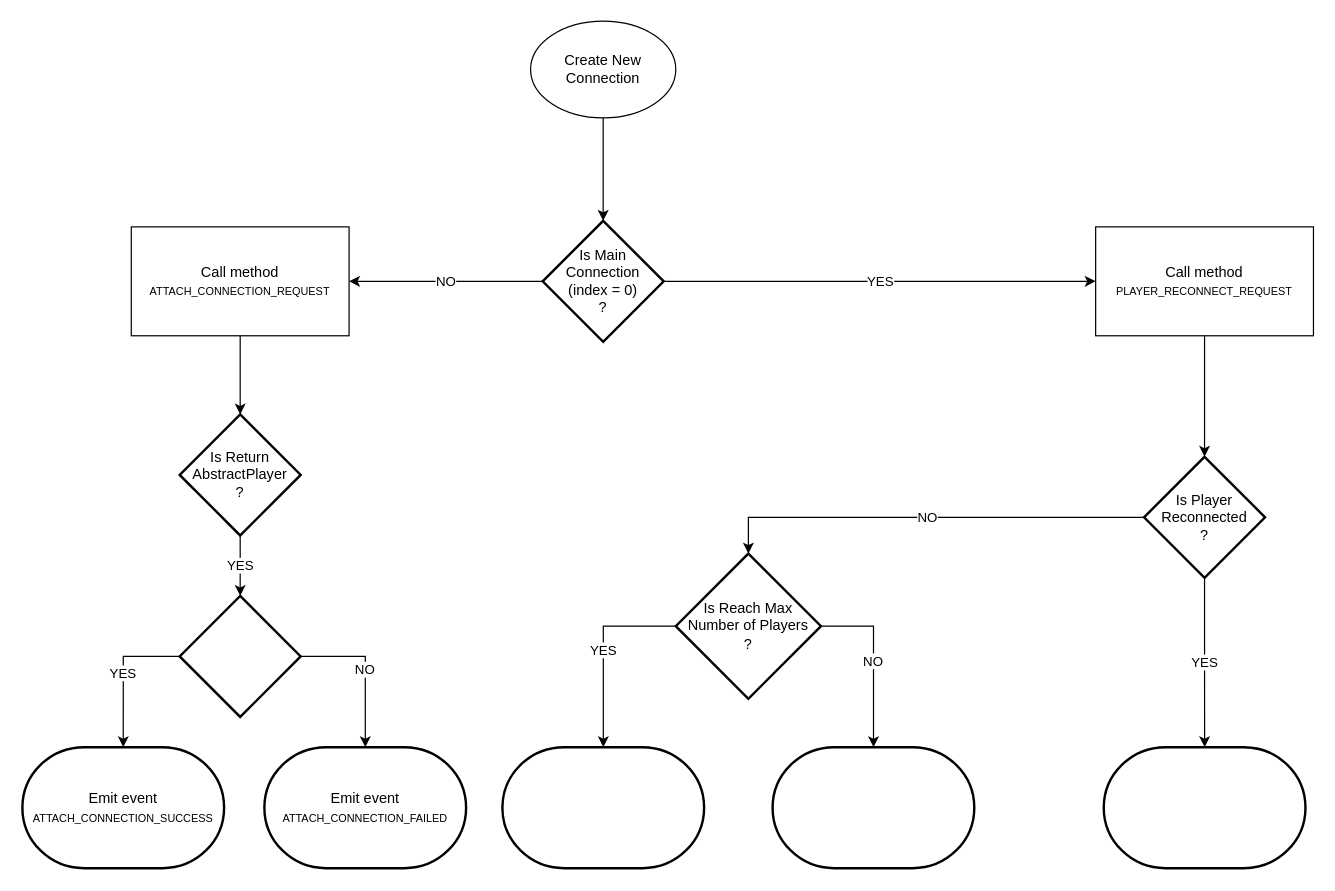
The diagram is 1335 pixels wide and 891 high, and some of its shapes have lost their labels. Each missing label, with the centre of its shape:
Emit event CONNECTION_FAILED: point (603, 807)
Emit event CONNECTION_SUCCESS: point (873, 807)
Emit event PLAYER_RECONNECT_SUCCESS: point (1204, 807)
Is Success ?: point (239, 656)
